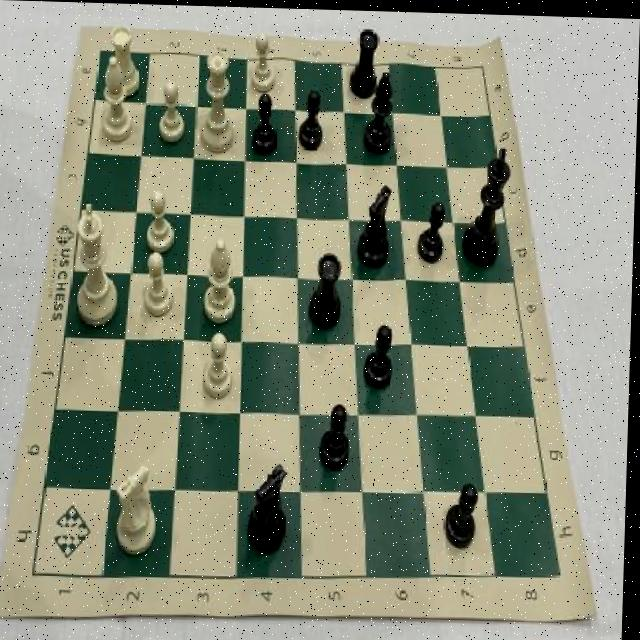bishop: (364, 64, 399, 156)
black-bishop: (460, 134, 516, 270)
black-king: (248, 451, 296, 557), (355, 173, 400, 272)
black-knight: (318, 395, 361, 476), (445, 469, 485, 548), (363, 310, 401, 393), (413, 190, 451, 265), (295, 85, 332, 155), (247, 88, 281, 156)
black-queen: (303, 236, 351, 338), (344, 16, 386, 100)
black-rook: (198, 229, 244, 329), (98, 47, 141, 151)
white-bishop: (65, 197, 128, 330)
white-king: (110, 457, 168, 562)
white-knight: (198, 323, 242, 403), (140, 247, 180, 323), (244, 24, 283, 96), (155, 73, 192, 147), (143, 182, 177, 255)
white-pawn: (198, 40, 243, 157)
white-queen: (104, 18, 147, 100)
